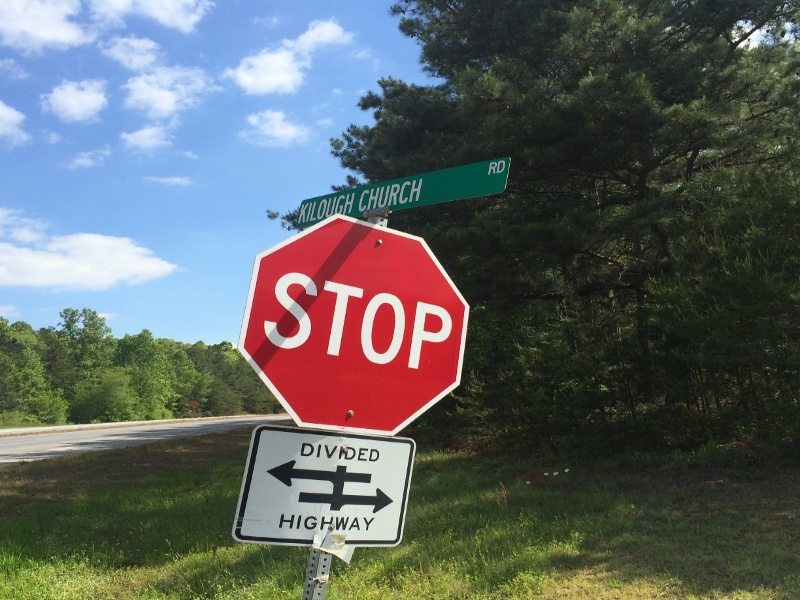stop sign: (234, 212, 475, 437)
